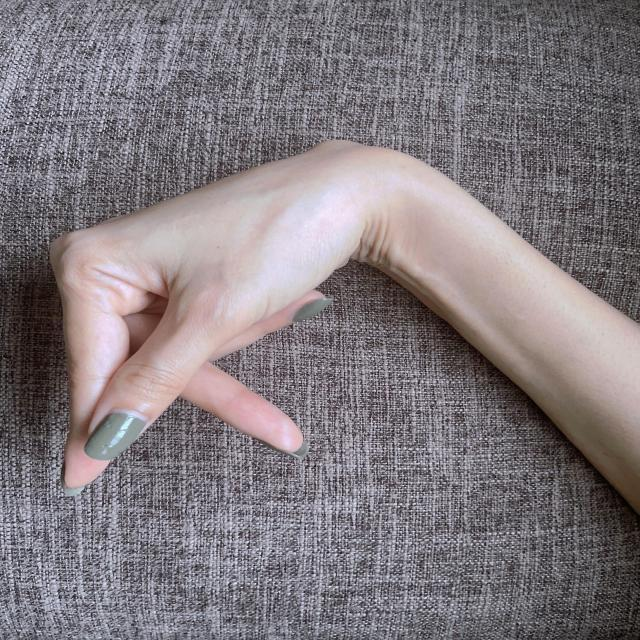P: (53, 136, 396, 496)
